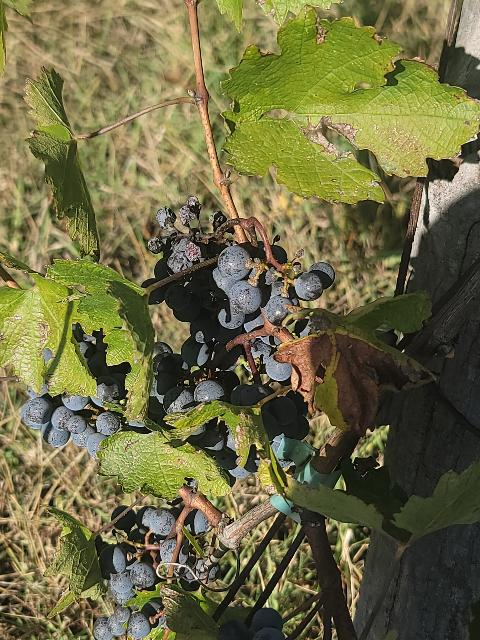grapes: (158, 219, 335, 348), (92, 505, 220, 640), (20, 326, 151, 456), (146, 351, 310, 441), (188, 419, 238, 474), (249, 330, 291, 386)
